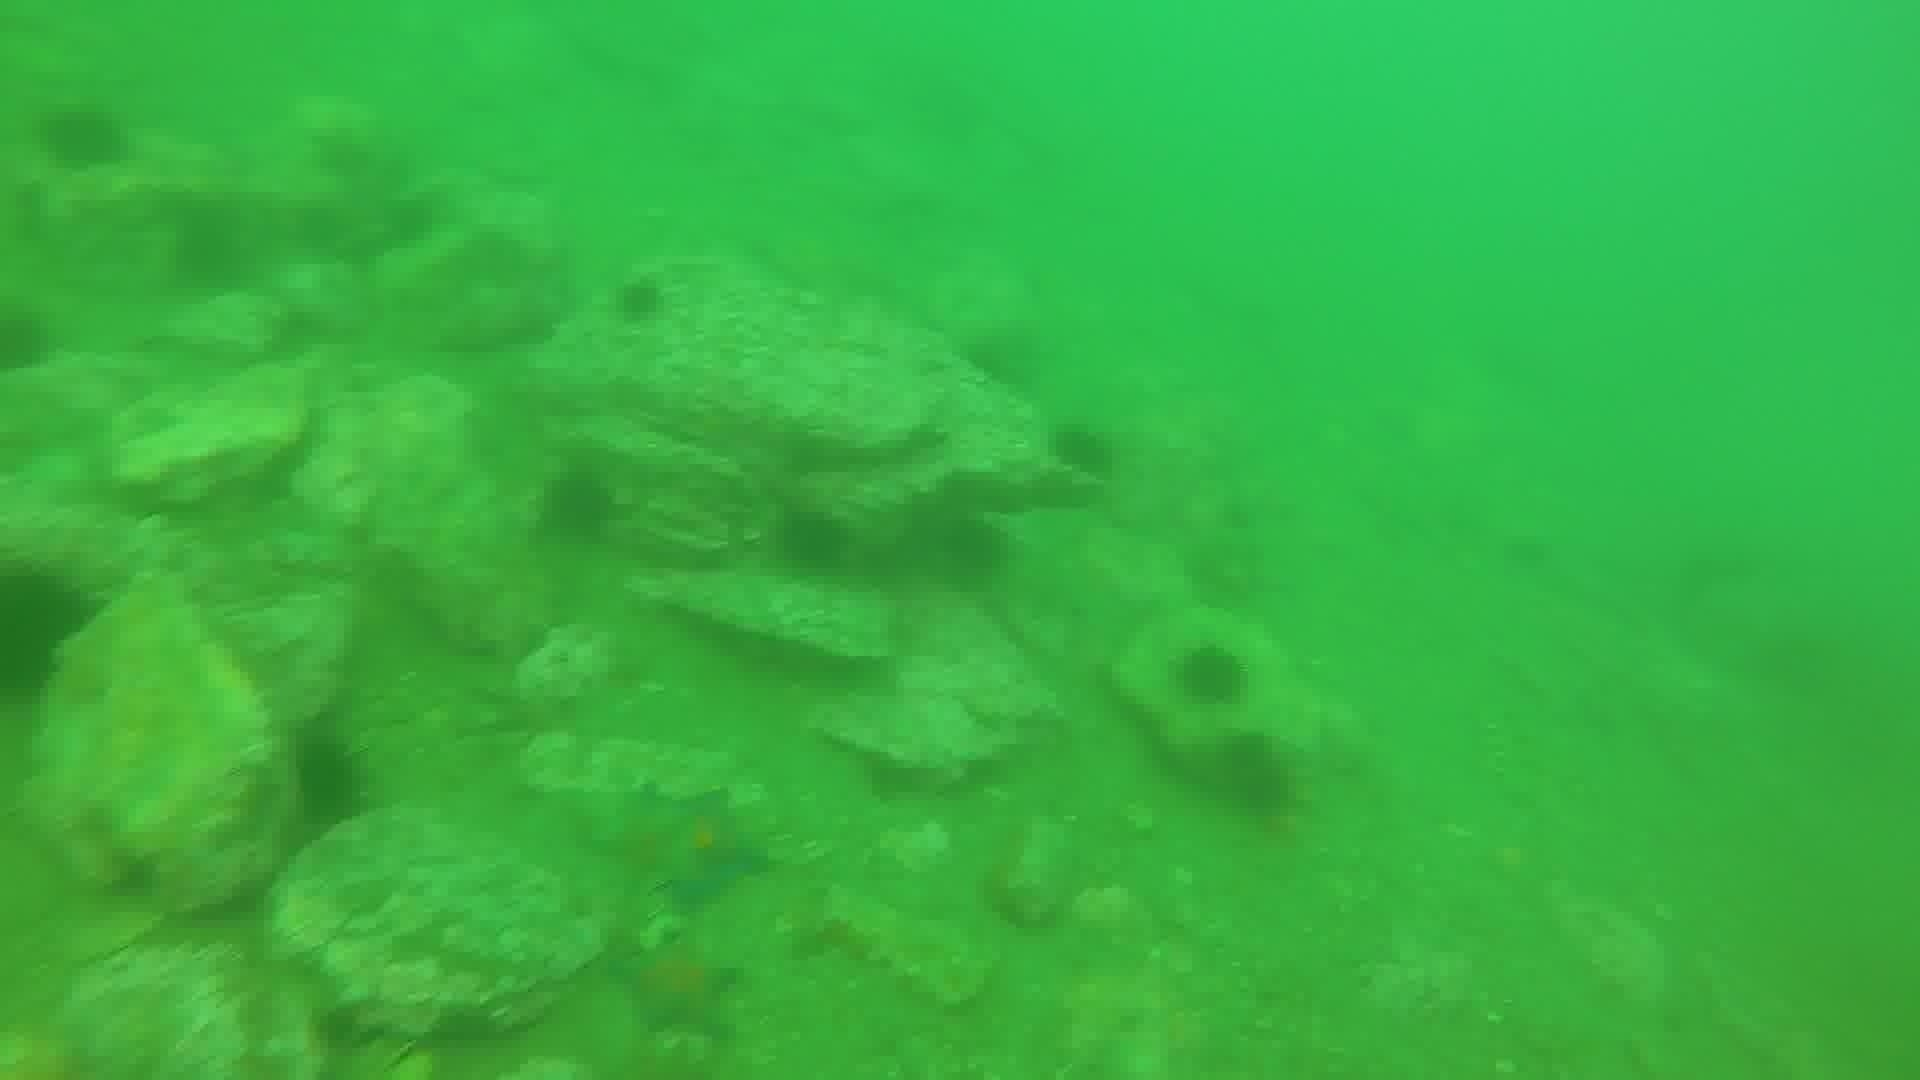echinus: (282, 729, 373, 833), (1207, 729, 1303, 827), (36, 100, 132, 177), (927, 510, 1011, 593), (535, 464, 622, 545), (959, 319, 1048, 396), (1, 553, 86, 633), (769, 502, 855, 582), (1, 617, 73, 707), (1168, 641, 1251, 711), (1044, 418, 1121, 484), (1, 301, 58, 378), (608, 272, 673, 328)
starfish: (618, 785, 773, 911), (611, 935, 745, 1042)
